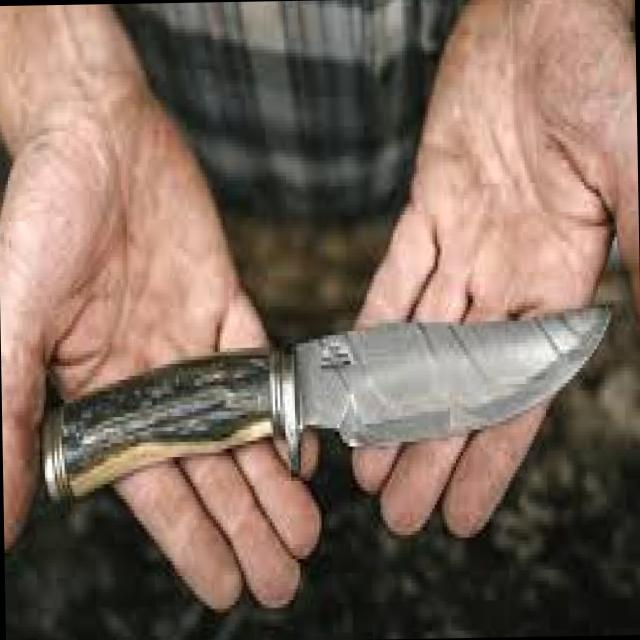Gun: (20, 314, 626, 478)
